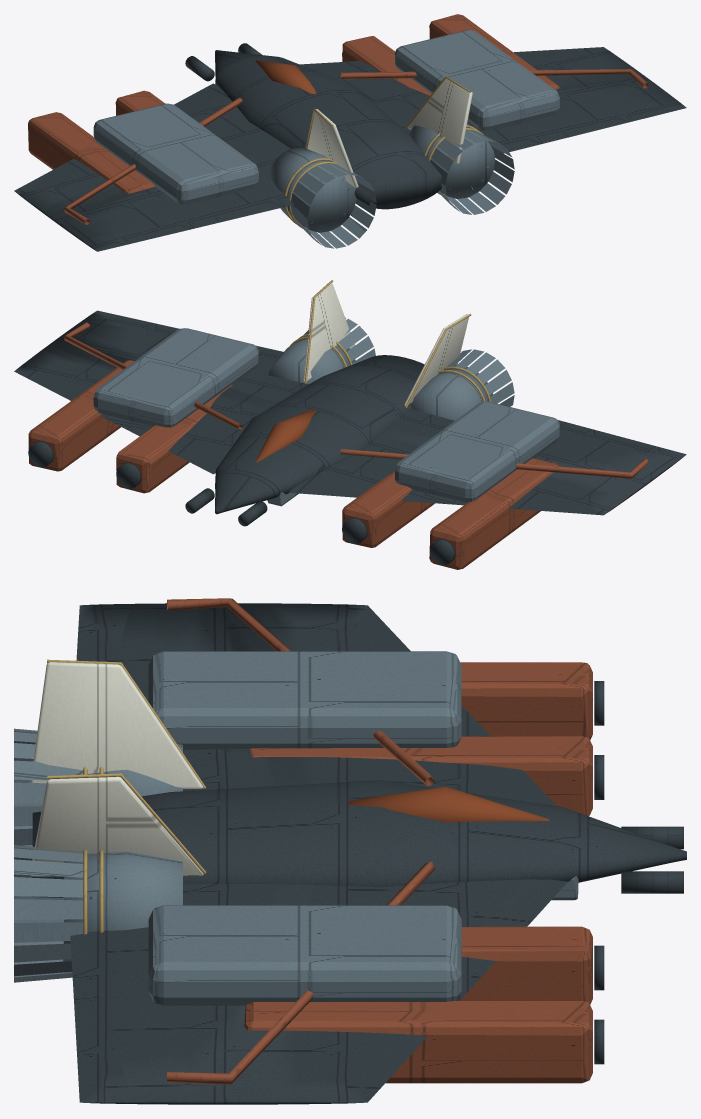
File: heavy.glb
The picture shows the model from 3 angles, top to bottom: view 1: azimuth 30°, elevation 25°; view 2: azimuth 150°, elevation 25°; view 3: azimuth 270°, elevation 25°; orthographic projection. The views are drawn at different scales.
Parts seen in each view (by area): view 1: core-graphite-surfaces, core-titanium-surfaces, core-hostile-surfaces, core-ceramic-surfaces, core-brass-surfaces, core-enemyglass-surfaces; view 2: core-graphite-surfaces, core-titanium-surfaces, core-hostile-surfaces, core-ceramic-surfaces, core-enemyglass-surfaces, core-brass-surfaces; view 3: core-graphite-surfaces, core-titanium-surfaces, core-hostile-surfaces, core-ceramic-surfaces, core-enemyglass-surfaces, core-brass-surfaces.
Boxes of the visible parts, x1=… form: core-graphite-surfaces: x1=14, y1=43, x2=686, y2=251; core-titanium-surfaces: x1=93, y1=30, x2=559, y2=248; core-hostile-surfaces: x1=28, y1=14, x2=648, y2=224; core-ceramic-surfaces: x1=307, y1=79, x2=472, y2=187; core-brass-surfaces: x1=284, y1=76, x2=483, y2=229; core-enemyglass-surfaces: x1=255, y1=60, x2=315, y2=93; core-graphite-surfaces: x1=14, y1=310, x2=686, y2=565; core-titanium-surfaces: x1=93, y1=317, x2=559, y2=506; core-hostile-surfaces: x1=28, y1=322, x2=648, y2=569; core-ceramic-surfaces: x1=303, y1=282, x2=468, y2=406; core-enemyglass-surfaces: x1=255, y1=409, x2=316, y2=462; core-brass-surfaces: x1=289, y1=280, x2=491, y2=407; core-graphite-surfaces: x1=32, y1=603, x2=686, y2=1104; core-titanium-surfaces: x1=14, y1=651, x2=578, y2=1005; core-hostile-surfaces: x1=167, y1=598, x2=592, y2=1084; core-ceramic-surfaces: x1=30, y1=662, x2=203, y2=876; core-enemyglass-surfaces: x1=346, y1=786, x2=549, y2=822; core-brass-surfaces: x1=47, y1=659, x2=206, y2=934.
Size of the model in its own units: 9.4 by 1.76 by 5.38.
Materials: 6 (5 with a texture image).
